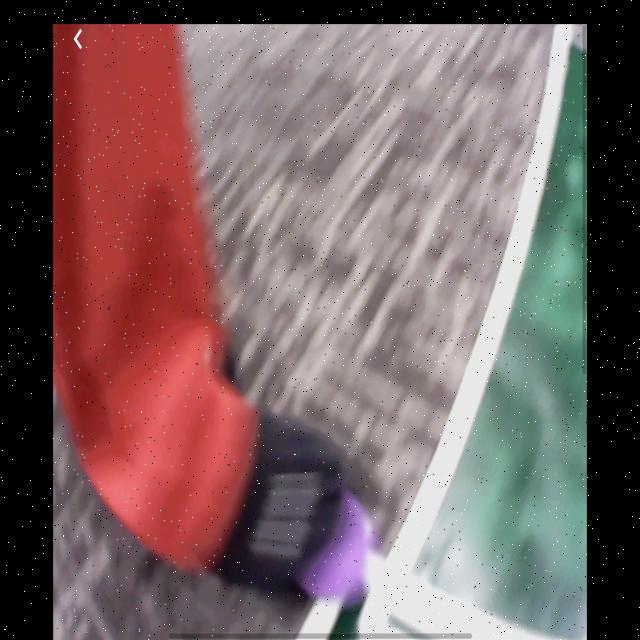ball: (301, 488, 378, 597)
